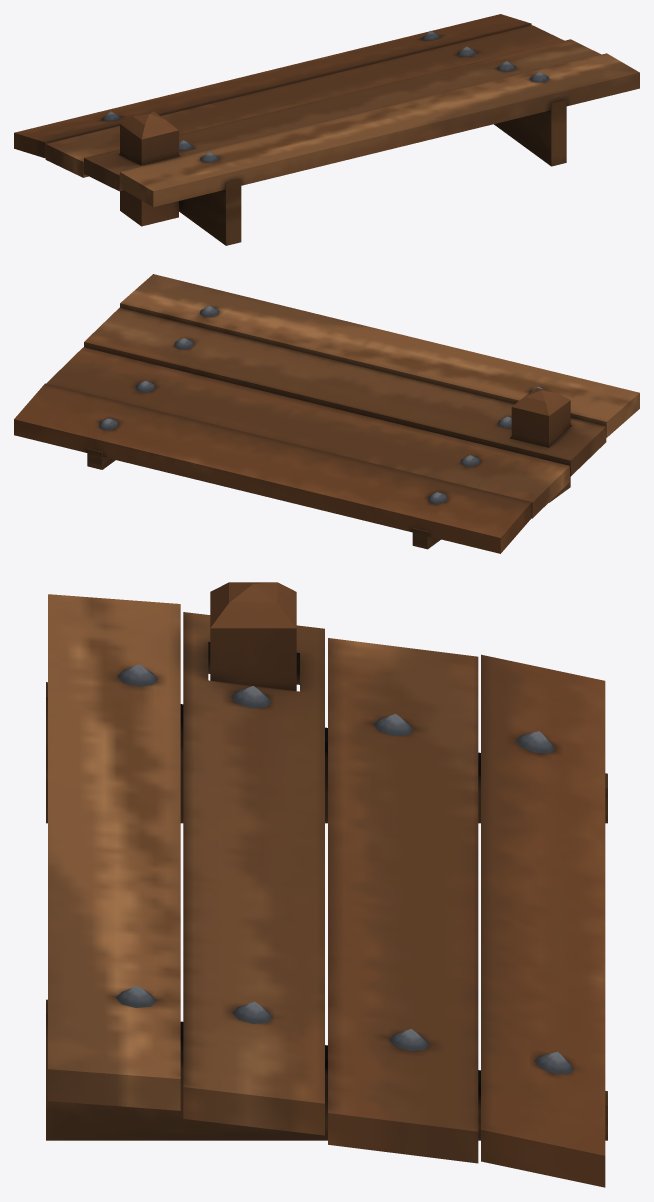
File: 1PAr_Bois-Montee.FBX
The picture shows the model from 3 angles, top to bottom: view 1: azimuth 30°, elevation 25°; view 2: azimuth 150°, elevation 25°; view 3: azimuth 270°, elevation 25°; orthographic projection. The views are drawn at different scales.
Visible parts, largest first — view 1: 1PAr_Bois-Montee; view 2: 1PAr_Bois-Montee; view 3: 1PAr_Bois-Montee.
Part boxes in pixels (x1,y1,x2,y2): 1PAr_Bois-Montee: (14, 14, 639, 245); 1PAr_Bois-Montee: (14, 274, 639, 553); 1PAr_Bois-Montee: (46, 582, 607, 1187).
Size of the model in its own units: 8 by 1.57 by 4.
